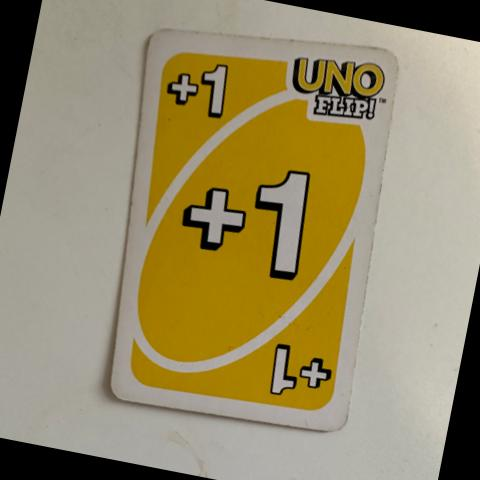5_red: (256, 166, 311, 282), (201, 59, 230, 119), (267, 345, 297, 395)
